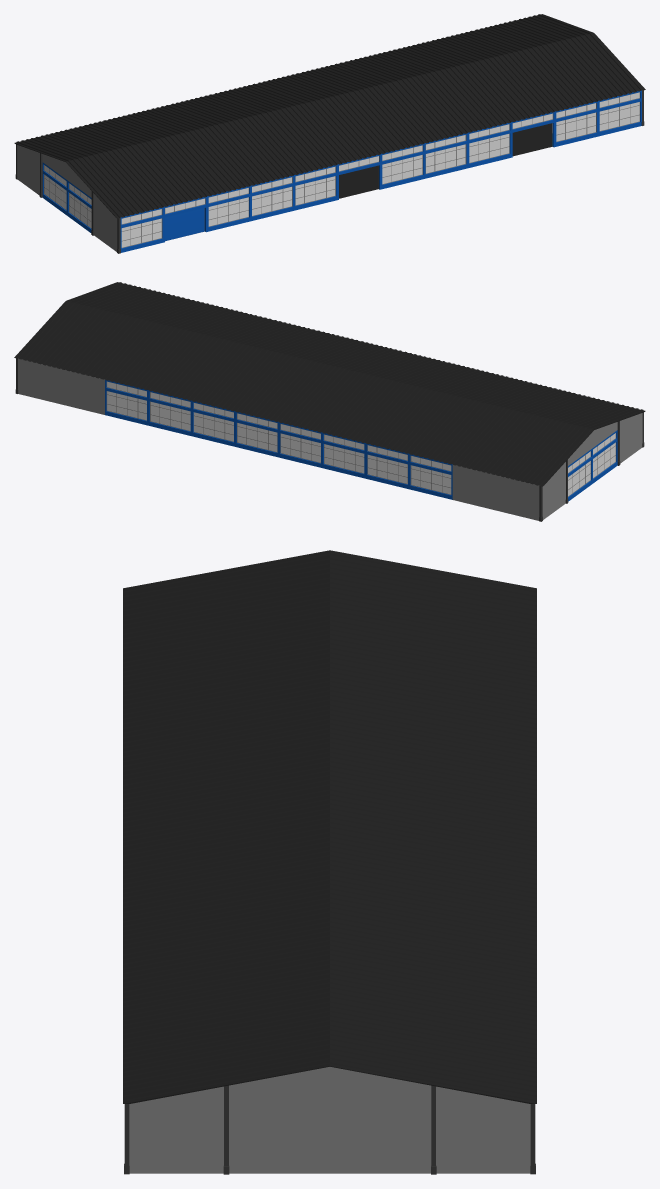
Rendered from Warehouse.fbx.
3 views of the same model, one above another, from view 1: azimuth 30°, elevation 25°; view 2: azimuth 150°, elevation 25°; view 3: azimuth 270°, elevation 25° (orthographic). The views are drawn at different scales.
Visible parts, largest first — view 1: roof_leftEnd, roof_rightEnd001, roof009, roof008, roof001, roof006, roof003, roof010, roof004, roof007, roof002, roof005 (+30 smaller); view 2: roof_leftEnd, roof_rightEnd001, roof009, roof001, roof008, roof006, roof003, roof010, roof004, roof007, roof002, roof005 (+25 smaller); view 3: roof_rightEnd001, roof_leftEnd, roof006, roof005, roof004, roof001, roof010, roof007, roof003, roof009, roof008, roof002 (+7 smaller).
Boxes of the visible parts, x1,y1,x2,y2 form: roof_leftEnd: (14, 131, 163, 218); roof_rightEnd001: (496, 14, 645, 100); roof009: (409, 35, 554, 121); roof008: (365, 46, 511, 132); roof001: (61, 120, 207, 206); roof006: (279, 67, 424, 153); roof003: (148, 99, 294, 185); roof010: (452, 25, 598, 111); roof004: (191, 88, 337, 174); roof007: (322, 57, 468, 143); roof002: (105, 109, 250, 196); roof005: (235, 78, 381, 164); roof_leftEnd: (496, 399, 645, 486); roof_rightEnd001: (14, 282, 163, 368); roof009: (105, 303, 250, 389); roof001: (452, 388, 598, 474); roof008: (148, 314, 294, 400); roof006: (235, 335, 380, 421); roof003: (365, 367, 511, 453); roof010: (61, 293, 207, 379); roof004: (322, 356, 468, 442); roof007: (191, 325, 337, 411); roof002: (409, 377, 554, 464); roof005: (278, 346, 424, 432); roof_rightEnd001: (123, 1019, 536, 1103); roof_leftEnd: (123, 550, 536, 632); roof006: (123, 807, 536, 887); roof005: (123, 764, 536, 844); roof004: (123, 722, 536, 802); roof001: (123, 595, 536, 675); roof010: (123, 976, 536, 1056); roof007: (123, 849, 536, 929); roof003: (123, 680, 536, 759); roof009: (123, 934, 536, 1014); roof008: (123, 892, 536, 971); roof002: (123, 637, 536, 717).
Size of the model in its own units: 6068 by 607 by 2058.
Materials: 1 (1 with a texture image).
